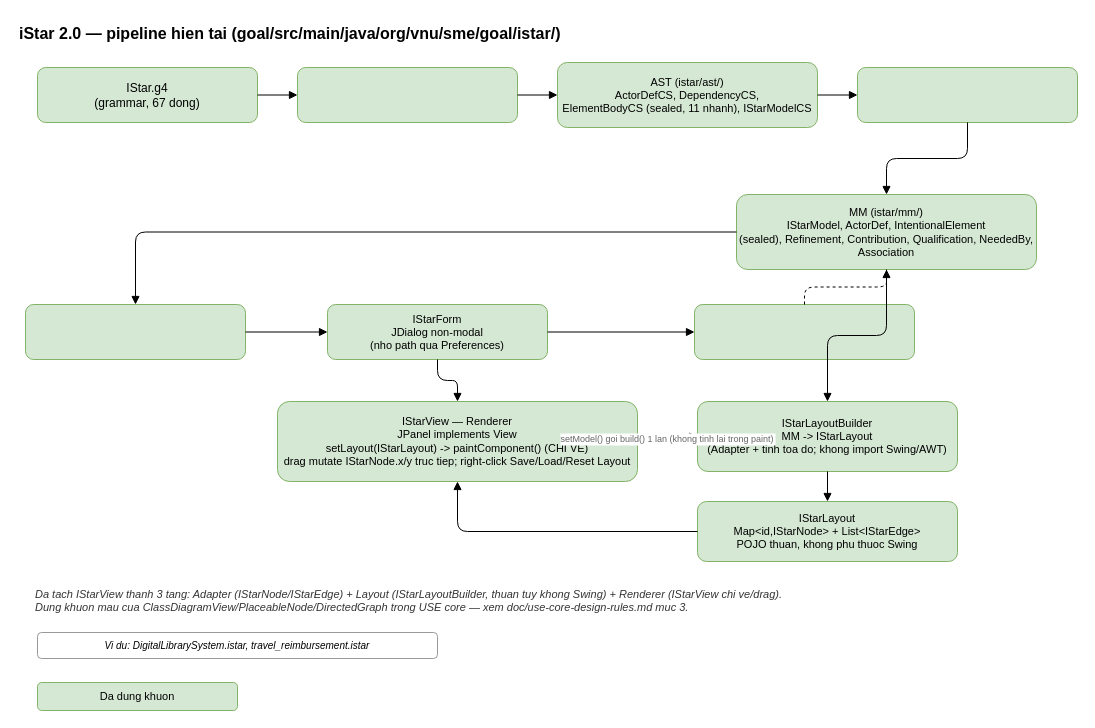
Image size: 1095x728. Some labels were removed from this diagram. Here are the shapes that lost their labels. From the top down, the centre of each, then its label:
[407,94]: IStarBuildingVisitor ParseTree -> AST
[967,94]: IStarModelFactory.build(cs) AST -> MM (static factory)
[135,332]: ActionOpenIStar IPluginActionDelegate
[804,332]: IStarCompiler Result(model, errors) record
